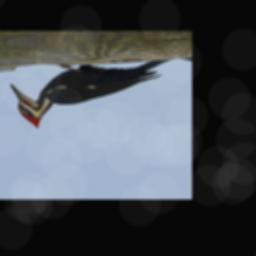Woodpecker: (6, 58, 167, 133)
